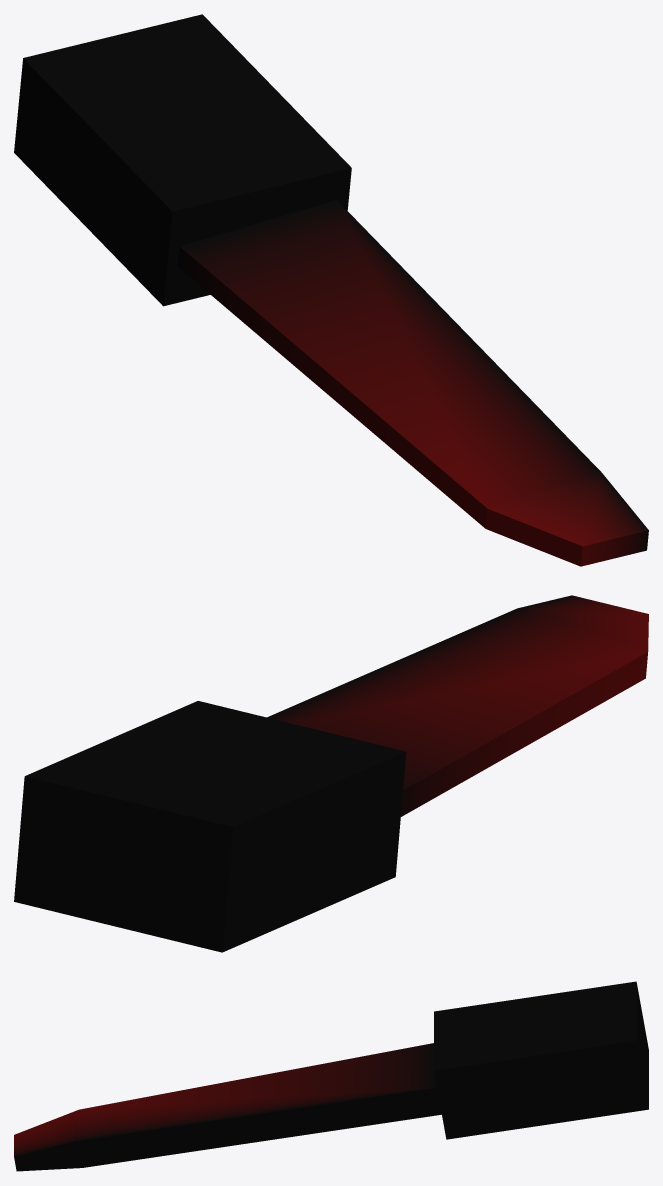
File: Knive.fbx
3 renders of one model, top to bottom at view 1: azimuth 30°, elevation 25°; view 2: azimuth 150°, elevation 25°; view 3: azimuth 270°, elevation 25°, orthographic. The views are drawn at different scales.
Visible parts, largest first — view 1: knive; view 2: knive; view 3: knive.
Part boxes in pixels (<box>): knive: <box>14,14,648,566</box>; knive: <box>14,595,648,952</box>; knive: <box>14,981,648,1171</box>.
Size of the model in its own units: 0.1405 by 0.1487 by 0.6349.
